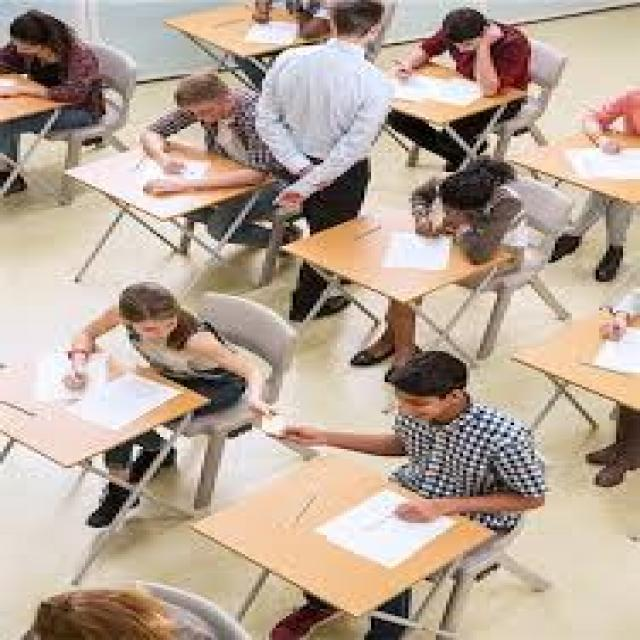cheating: (59, 282, 270, 426), (222, 377, 329, 463)
good: (362, 343, 569, 524), (405, 146, 556, 281), (127, 63, 270, 204), (396, 0, 529, 124)
